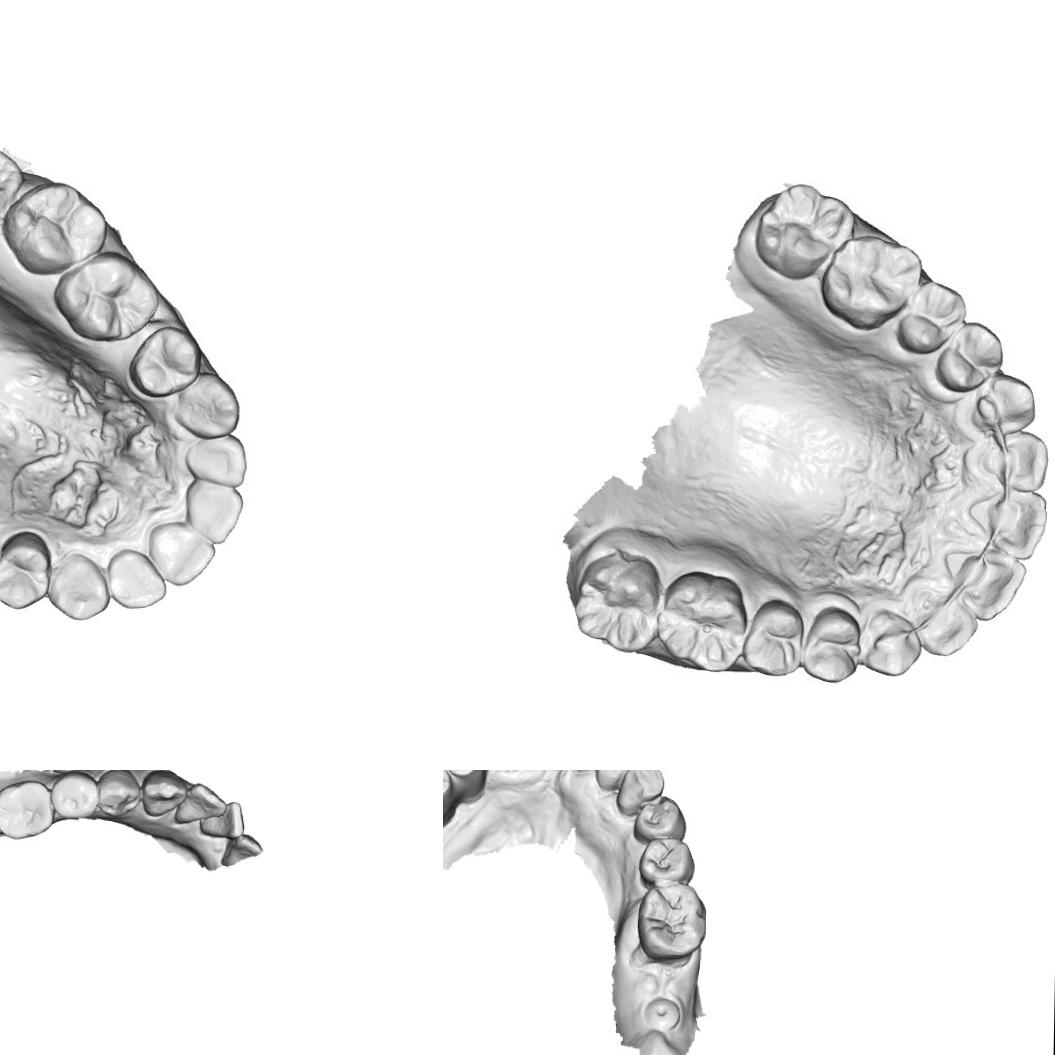canine: (862, 606, 922, 679), (48, 550, 106, 620), (978, 372, 1036, 439), (176, 377, 240, 435), (614, 770, 666, 817), (140, 770, 189, 819)
incisor: (907, 580, 978, 657), (972, 490, 1046, 560), (948, 553, 1024, 621), (968, 431, 1048, 489), (104, 549, 170, 612), (147, 522, 215, 580), (182, 432, 248, 487), (185, 480, 244, 541), (172, 780, 228, 827), (198, 798, 248, 840), (594, 770, 639, 792)
molar: (2, 181, 110, 275), (824, 234, 922, 328), (654, 569, 742, 671), (60, 254, 153, 344), (754, 183, 846, 273), (572, 553, 657, 650), (636, 880, 708, 962), (0, 778, 54, 840), (0, 146, 20, 220)
premolar: (127, 323, 203, 400), (898, 281, 968, 352), (800, 604, 862, 684), (744, 599, 804, 678), (934, 324, 998, 396), (0, 529, 51, 610), (637, 836, 696, 888), (46, 770, 101, 822), (632, 795, 688, 844), (94, 770, 143, 818), (443, 770, 487, 801), (443, 770, 457, 831)
